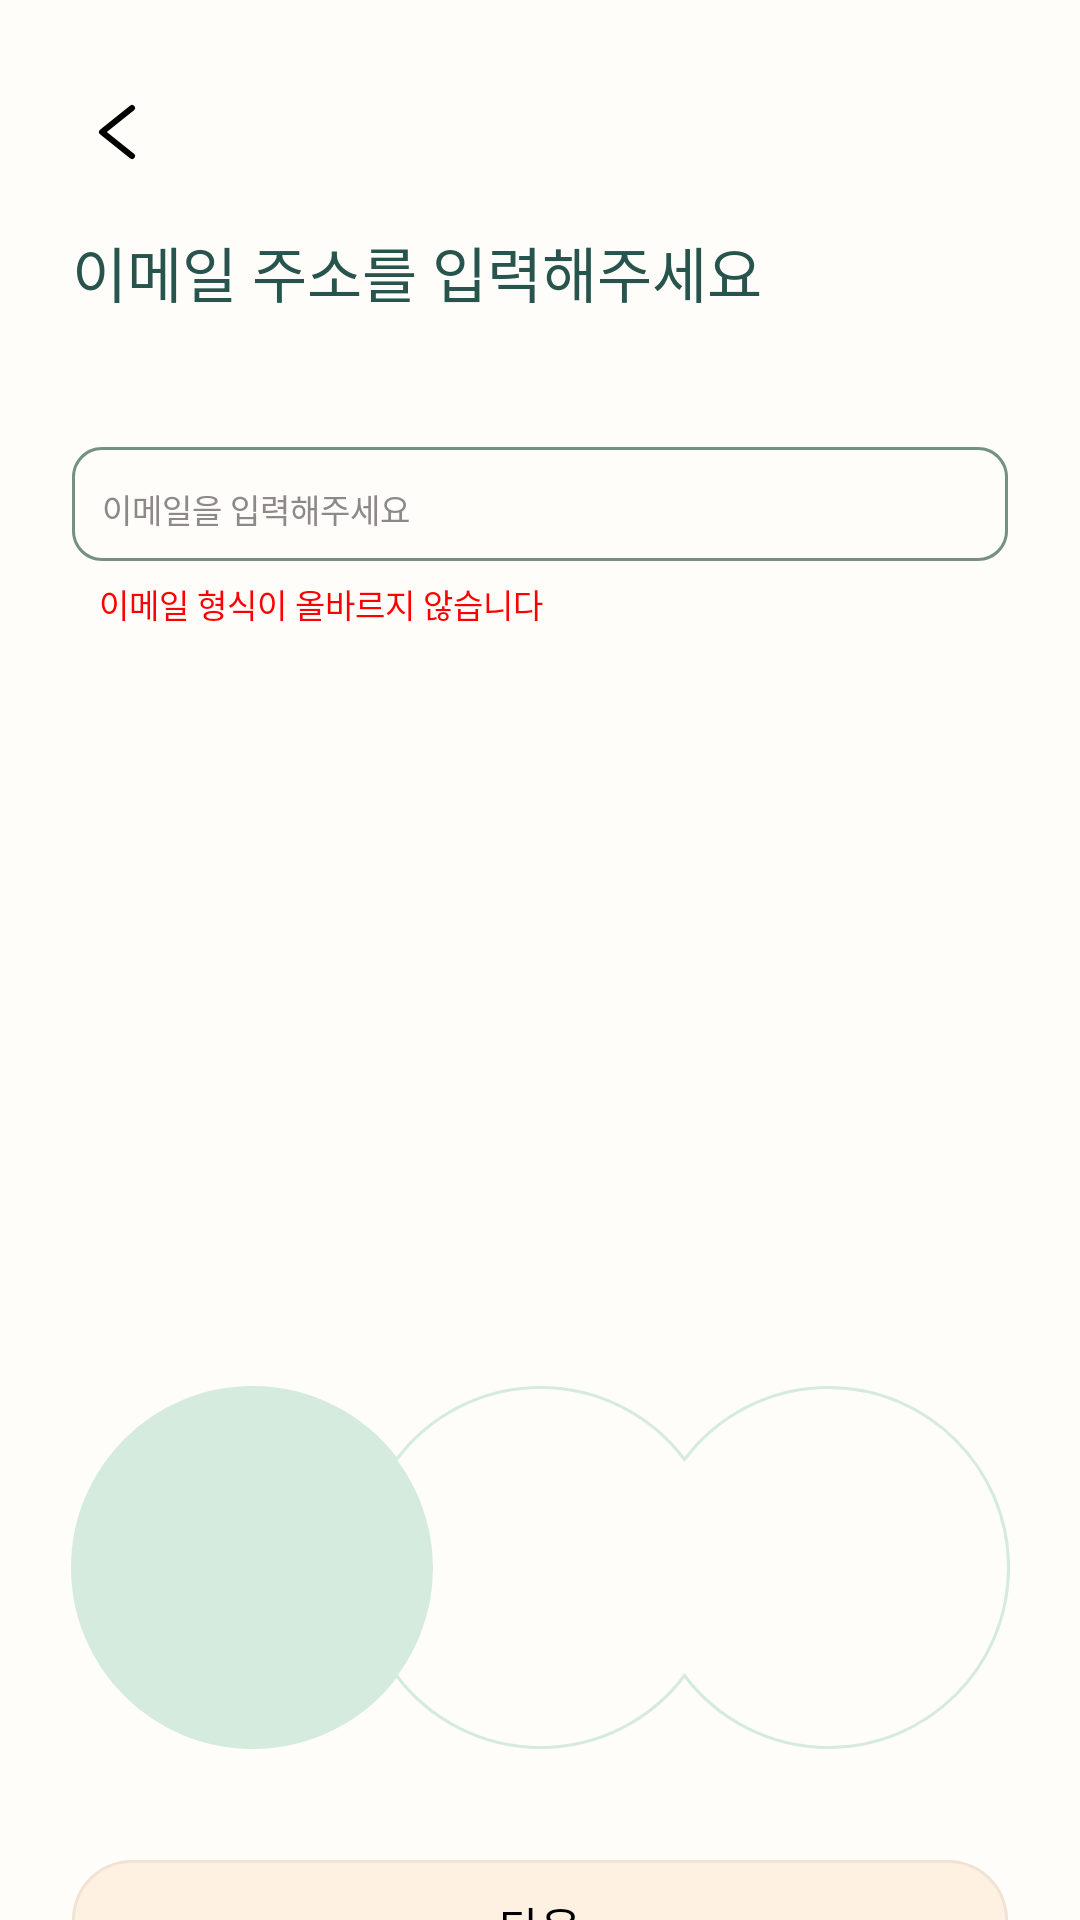

Point at icon controls on the screen. Image size 1080w x 1920h, points as (x,y).
back: (117,132)
